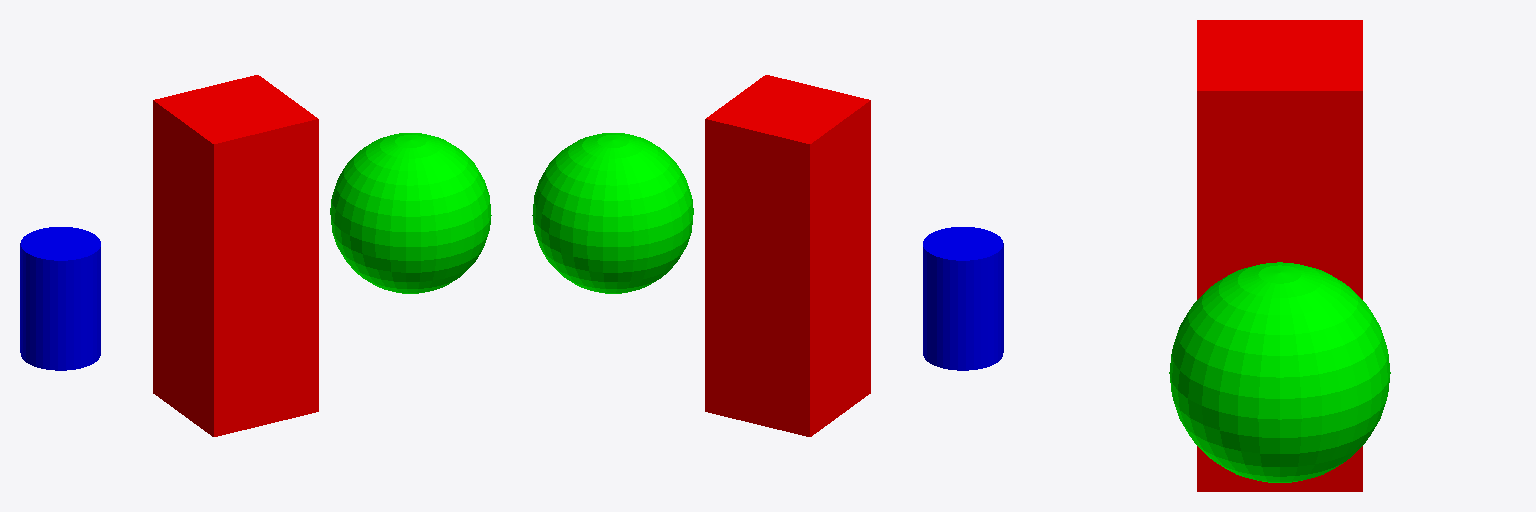
URDF robot description (test_robot):
<robot name="test_robot">
    <material name="red">
        <color rgba="1.0 0.0 0.0 1.0"/>
    </material>

    <link name="base_link"/>

    <joint name="body1_joint" type="fixed">
        <parent link="base_link"/>
        <child link="body1_link"/>
    </joint>
    <link name="body1_link">
        <visual>
            <geometry>
                <box size="0.3 0.3 0.8"/>
            </geometry>
            <origin xyz="0 0 0" rpy="0 0 0"/>
            <material name="red"/>
        </visual>
    </link>
    <joint name="body2_joint" type="fixed">
        <parent link="base_link"/>
        <child link="body2_link"/>
        <origin xyz="0.5 0 0" rpy="0 0 0"/>
    </joint>
    <link name="body2_link">
        <visual>
            <geometry>
                <sphere radius="0.2"/>
            </geometry>
            <origin xyz="0 0 0" rpy="0 0 0"/>
            <material name="green">
                <color rgba="0.0 2.0 0.0 1.0"/>
            </material>
        </visual>
    </link>
    <joint name="body3_joint" type="fixed">
        <parent link="base_link"/>
        <child link="body3_link"/>
        <origin xyz="-0.5 0 0" rpy="0 0 0"/>
    </joint>
    <link name="body3_link">
        <visual>
            <geometry>
                <cylinder length="0.3" radius="0.1"/>
            </geometry>
            <origin xyz="0 0 0" rpy="0 0 0"/>
            <material name="blue">
                <color rgba="0.0 0.0 1.0 1.0"/>
            </material>
        </visual>
    </link>
</robot>

--- Render facts (derived) ---
Views: 3 orthographic renders of the robot side by side, from view 1: azimuth 30°, elevation 25°; view 2: azimuth 150°, elevation 25°; view 3: azimuth 270°, elevation 25°.
Robot: test_robot — 4 links, 3 joints (3 fixed); root link base_link; default pose: all joints at 0.
Visible links, largest first — view 1: body1_link, body2_link, body3_link; view 2: body1_link, body2_link, body3_link; view 3: body1_link, body2_link.
Boxes of the visible links, x1,y1,x2,y2 form: body1_link: (153, 75, 318, 436); body2_link: (330, 133, 491, 293); body3_link: (20, 227, 100, 370); body1_link: (705, 75, 870, 436); body2_link: (532, 133, 693, 293); body3_link: (923, 227, 1003, 370); body1_link: (1197, 20, 1362, 491); body2_link: (1169, 262, 1390, 482).
Size in the robot's own frame: 1.3 by 0.4 by 0.8 metres.
Geometry: primitives only (box / cylinder / sphere), no mesh files.